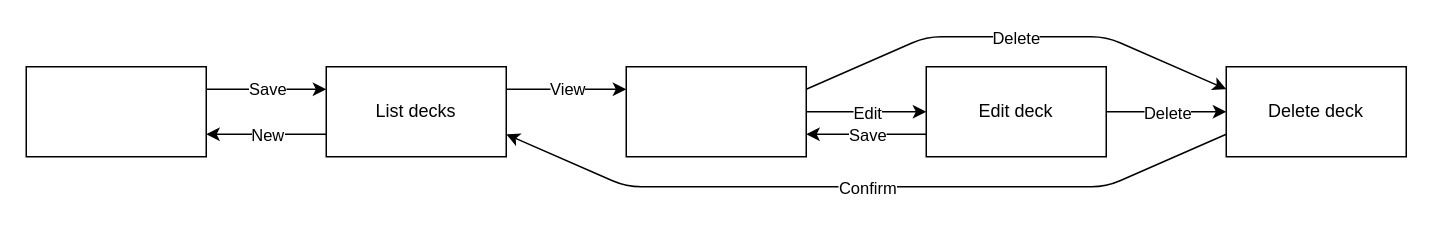
Some shapes in this 1433 by 225 pixel diagram are drawn without their labels. The shapes that lost their labels are listed below. From the top down, each one's centre as x and y in pixels, then its label:
(115,111): New deck
(715,111): View deck
